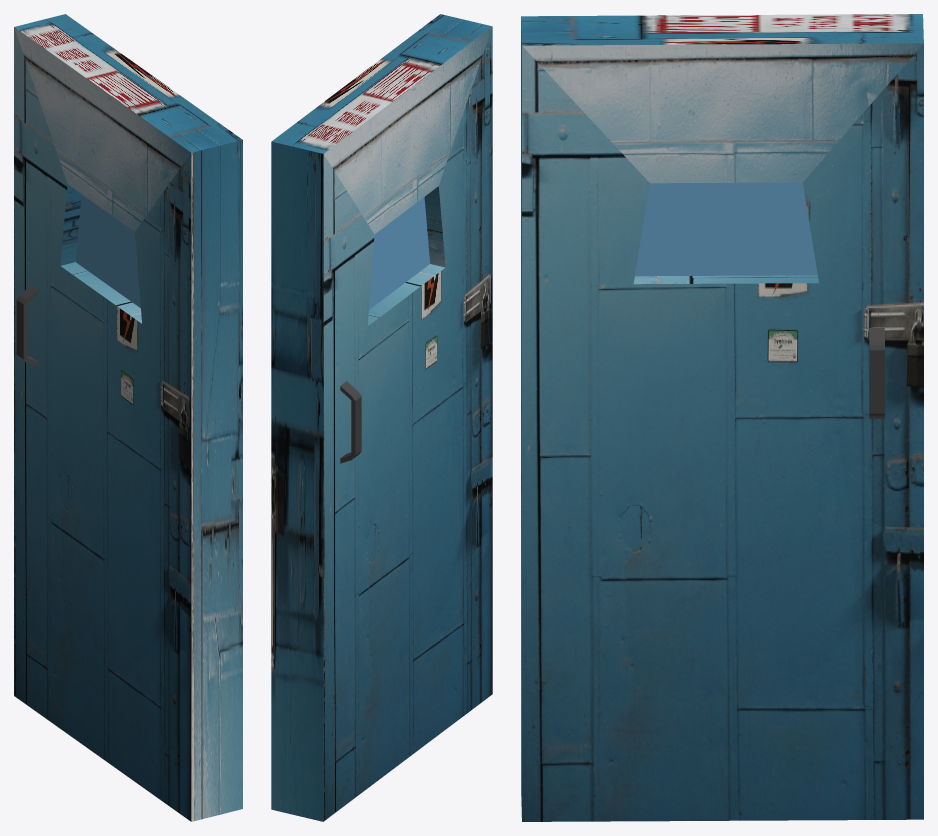
Rendered from Door.fbx.
3 views of the same model, side by side, from view 1: azimuth 30°, elevation 25°; view 2: azimuth 150°, elevation 25°; view 3: azimuth 270°, elevation 25° (orthographic). The views are drawn at different scales.
Visible parts, largest first — view 1: Door; view 2: Door; view 3: Door.
Boxes of the visible parts, <box> form: Door: <box>14,14,242,821</box>; Door: <box>271,14,492,821</box>; Door: <box>521,14,923,821</box>.
Size of the model in its own units: 119 by 923 by 434.
